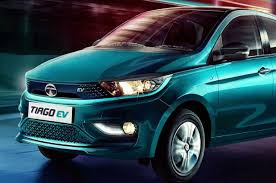Tiago: (16, 2, 276, 181)
